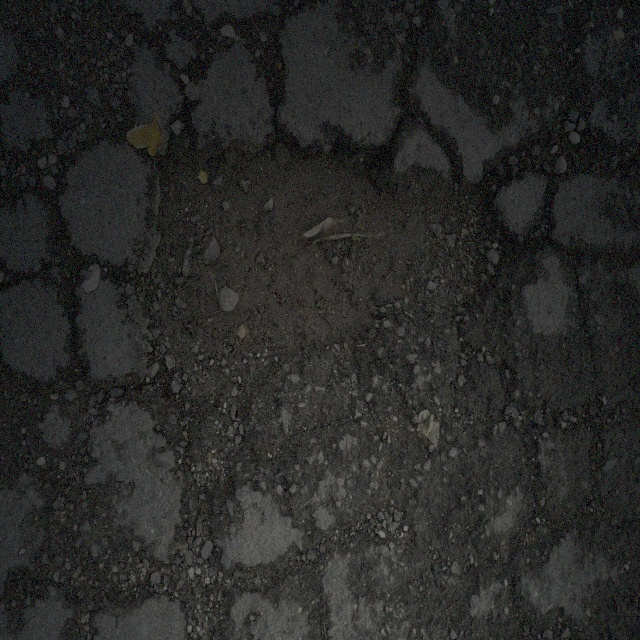pothole: (140, 116, 530, 482)
